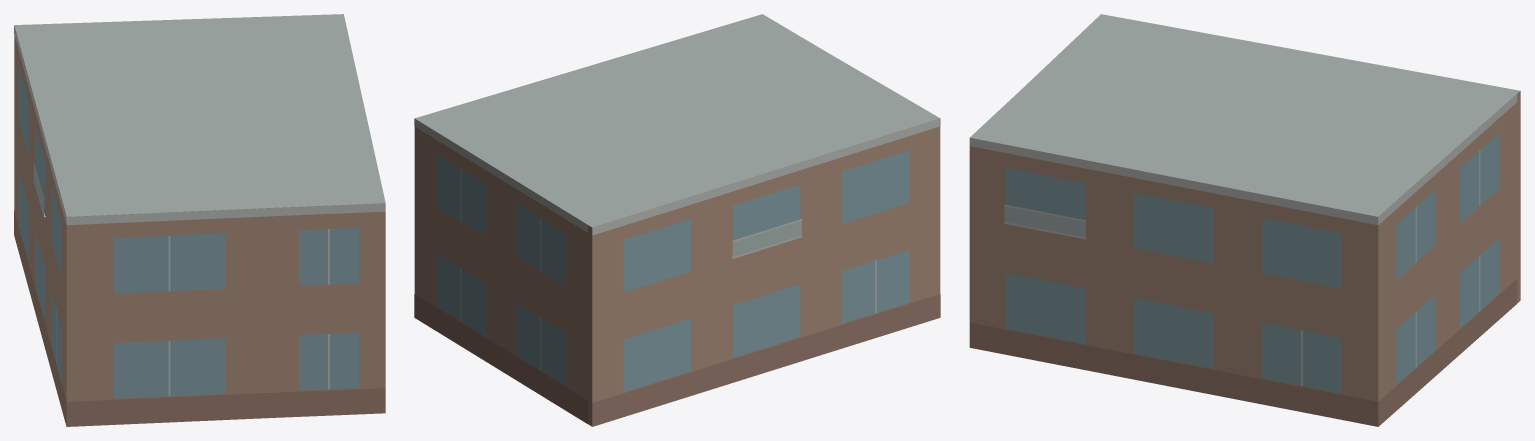
File: survey-upis-32598687.glb
The picture shows the model from 3 angles, left to right: view 1: azimuth 30°, elevation 25°; view 2: azimuth 150°, elevation 25°; view 3: azimuth 270°, elevation 25°; orthographic projection. The views are drawn at different scales.
Visible parts, largest first — view 1: survey-upis-32598687.tmp; view 2: survey-upis-32598687.tmp; view 3: survey-upis-32598687.tmp.
Part boxes in pixels (box(x1,y1,x2,y2)): survey-upis-32598687.tmp: box(14, 14, 385, 426); survey-upis-32598687.tmp: box(414, 14, 940, 426); survey-upis-32598687.tmp: box(969, 14, 1520, 426).
Bounding box in the file's own units: 12.65 × 6.1 × 14.51.
